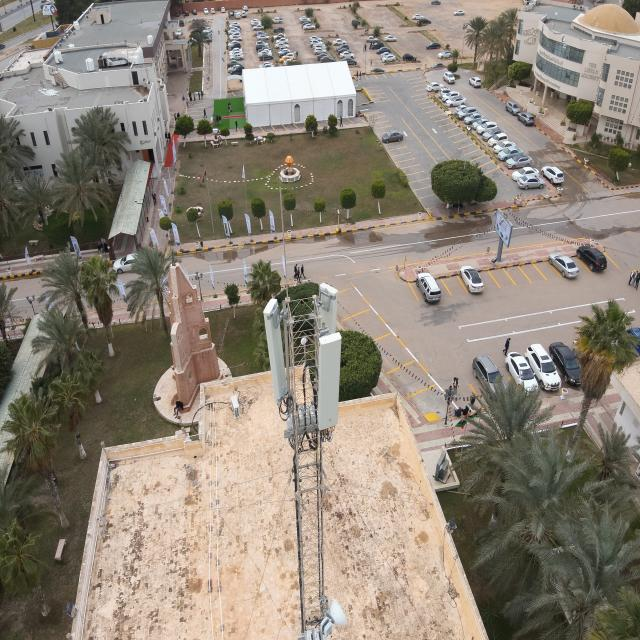antenna: (312, 331, 341, 431), (263, 295, 288, 402), (317, 279, 337, 335)
lighnig-rad: (278, 183, 292, 301)
microware-dish: (322, 598, 347, 638)
power-box: (298, 629, 326, 640)
radio-unit: (286, 406, 318, 435)
